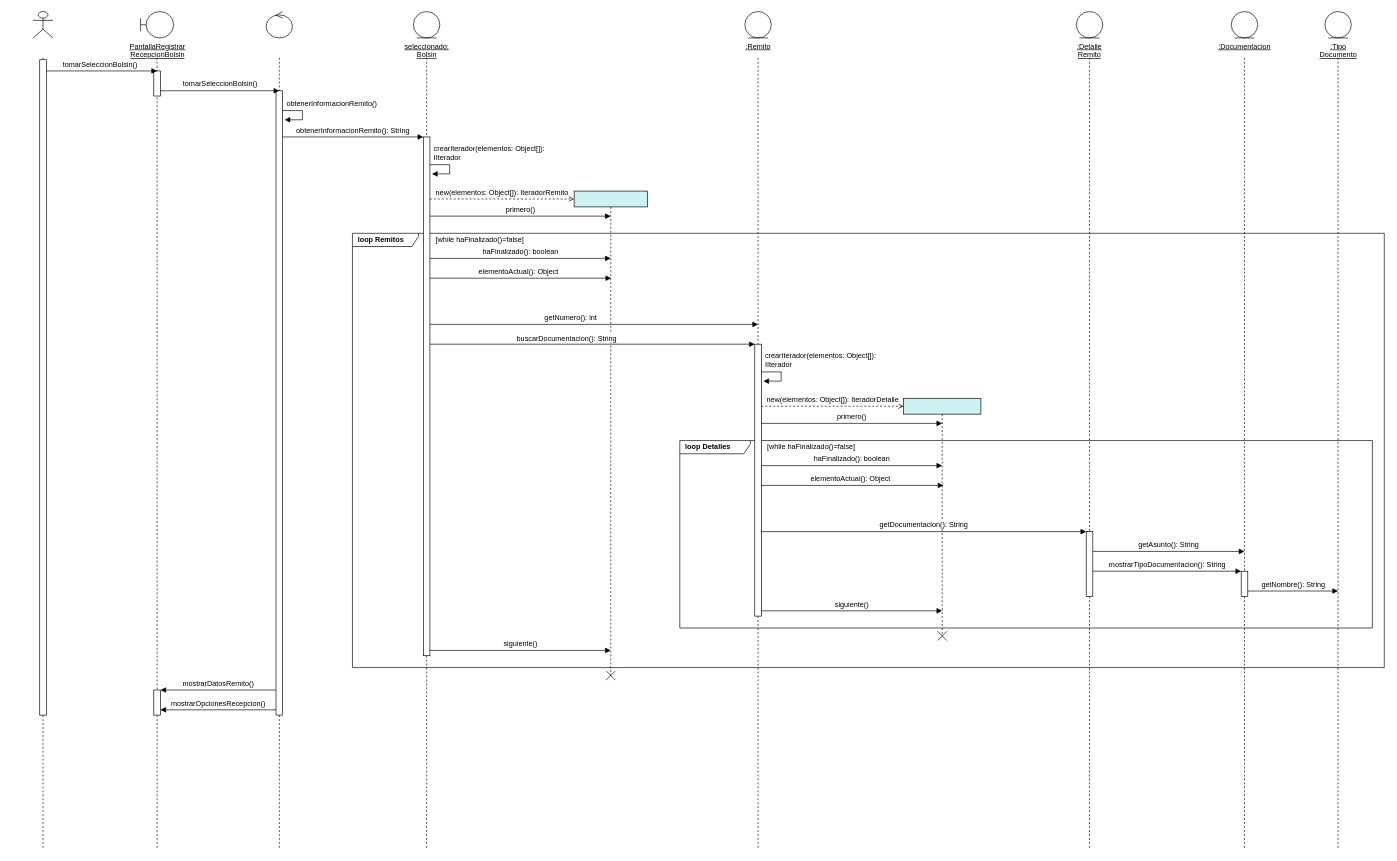
Some shapes in this 1397 by 861 pixel diagram are drawn without their labels. Each missing label, with the centre of its shape:
:IteradorDetalle: point 942,406
:IteradorRemito: point 610,198
EncargadoDeBolsin: point 42,24
GestorRecepcion Bolsin: point 279,24
